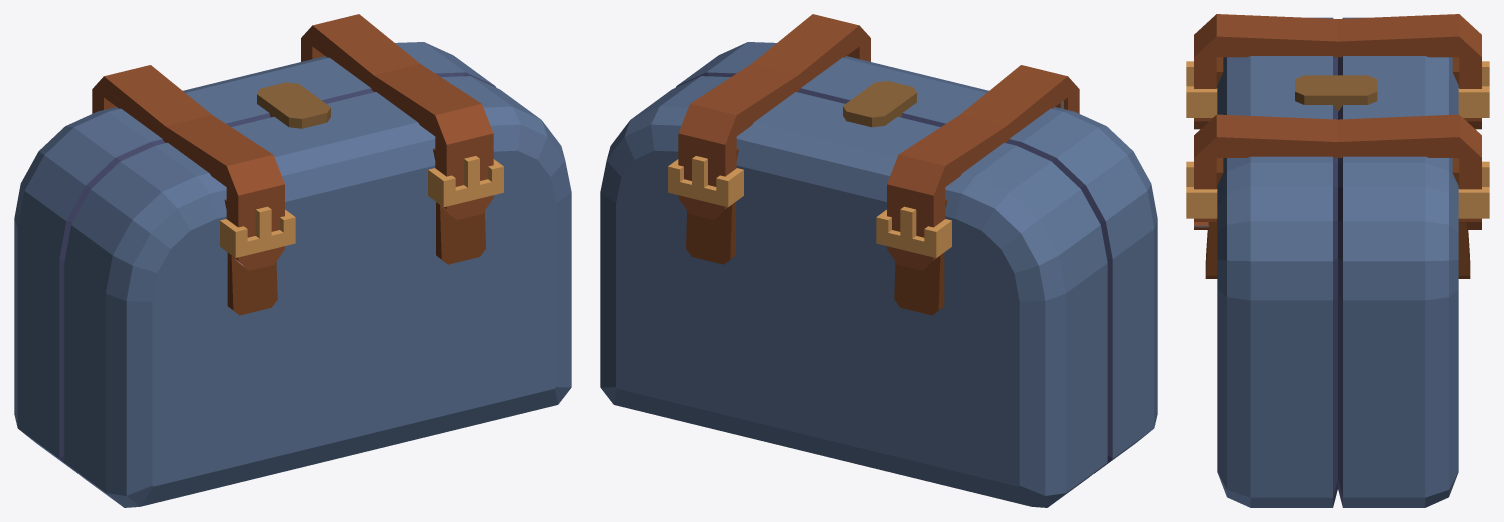
Rendered from 3D_Close_Suitcase02.fbx.
3 views of the same model, side by side, from view 1: azimuth 30°, elevation 25°; view 2: azimuth 150°, elevation 25°; view 3: azimuth 270°, elevation 25° (orthographic).
Visible parts, largest first — view 1: 3D_Close_Suitcase02; view 2: 3D_Close_Suitcase02; view 3: 3D_Close_Suitcase02.
Boxes of the visible parts, bbox=[...] form: 3D_Close_Suitcase02: bbox=[14, 14, 571, 507]; 3D_Close_Suitcase02: bbox=[600, 14, 1157, 507]; 3D_Close_Suitcase02: bbox=[1186, 14, 1489, 507].
Size of the model in its own units: 84.82 by 58.5 by 48.8.
